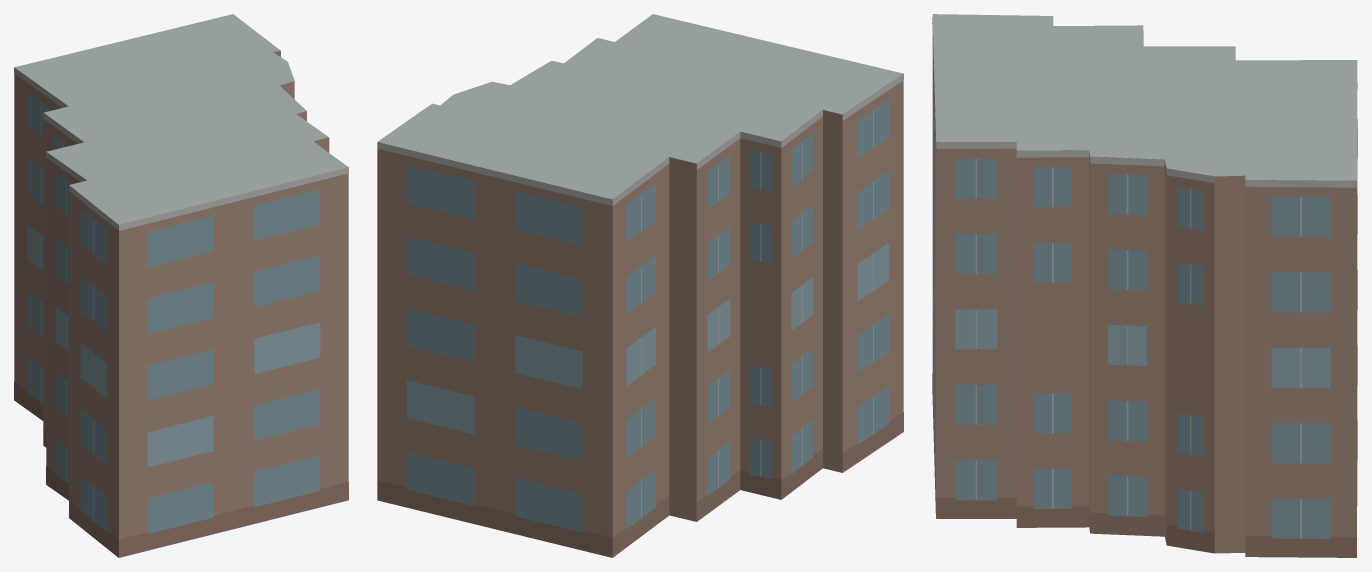
Rendered from survey-upis-32745542.glb.
3 renders of one model, left to right at view 1: azimuth 30°, elevation 25°; view 2: azimuth 150°, elevation 25°; view 3: azimuth 270°, elevation 25°, orthographic. The views are drawn at different scales.
Parts seen in each view (by area): view 1: survey-upis-32745542.tmp; view 2: survey-upis-32745542.tmp; view 3: survey-upis-32745542.tmp.
Boxes of the visible parts, x1=… form: survey-upis-32745542.tmp: x1=14, y1=14, x2=348, y2=557; survey-upis-32745542.tmp: x1=377, y1=14, x2=903, y2=557; survey-upis-32745542.tmp: x1=932, y1=14, x2=1357, y2=557.
Size of the model in its own units: 12.63 by 13.3 by 13.59.
